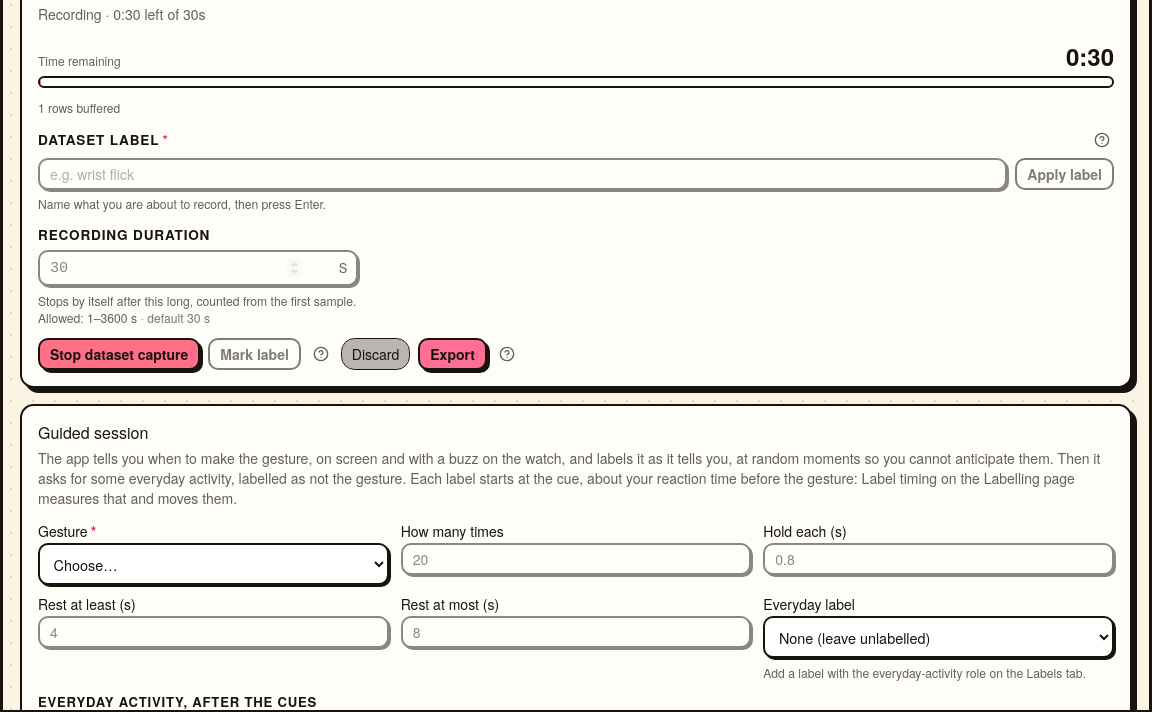
Scenario: Live telemetry › reports a failed dataset export via toast and re-enables the control
(page scrolled)
Click the button "Export": click(453, 354) [418,338,487,370]
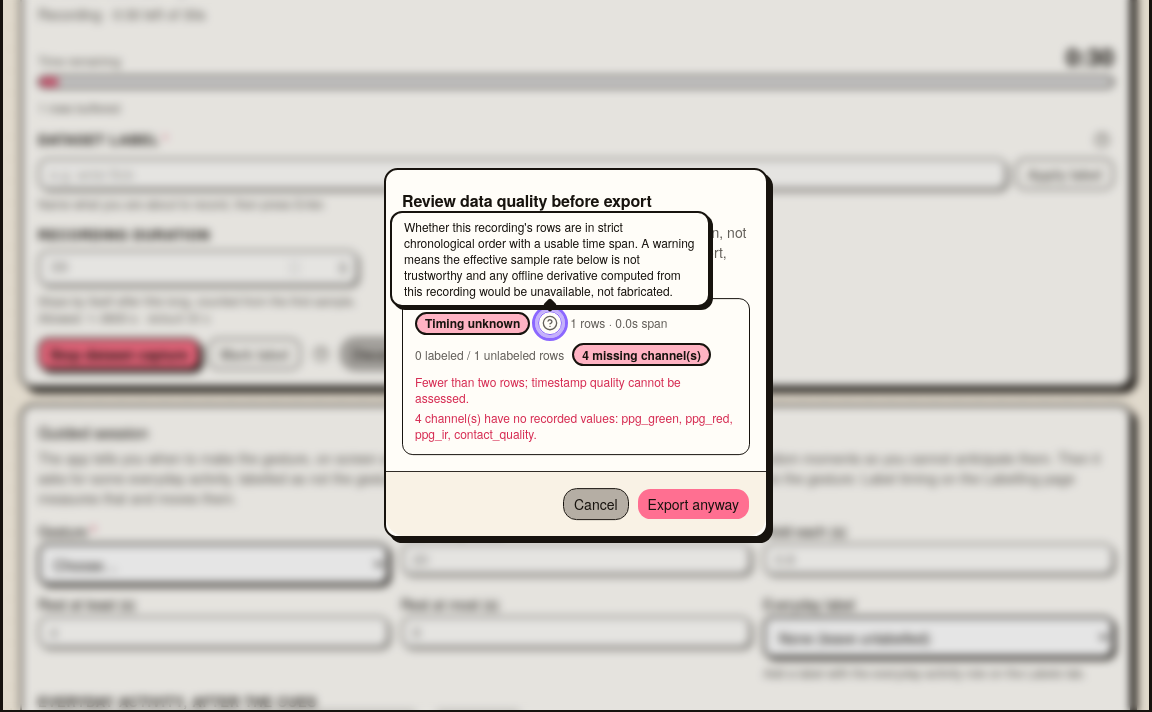
Click the button "Export anyway": click(693, 504) [637,488,750,520]
(page scrolled)
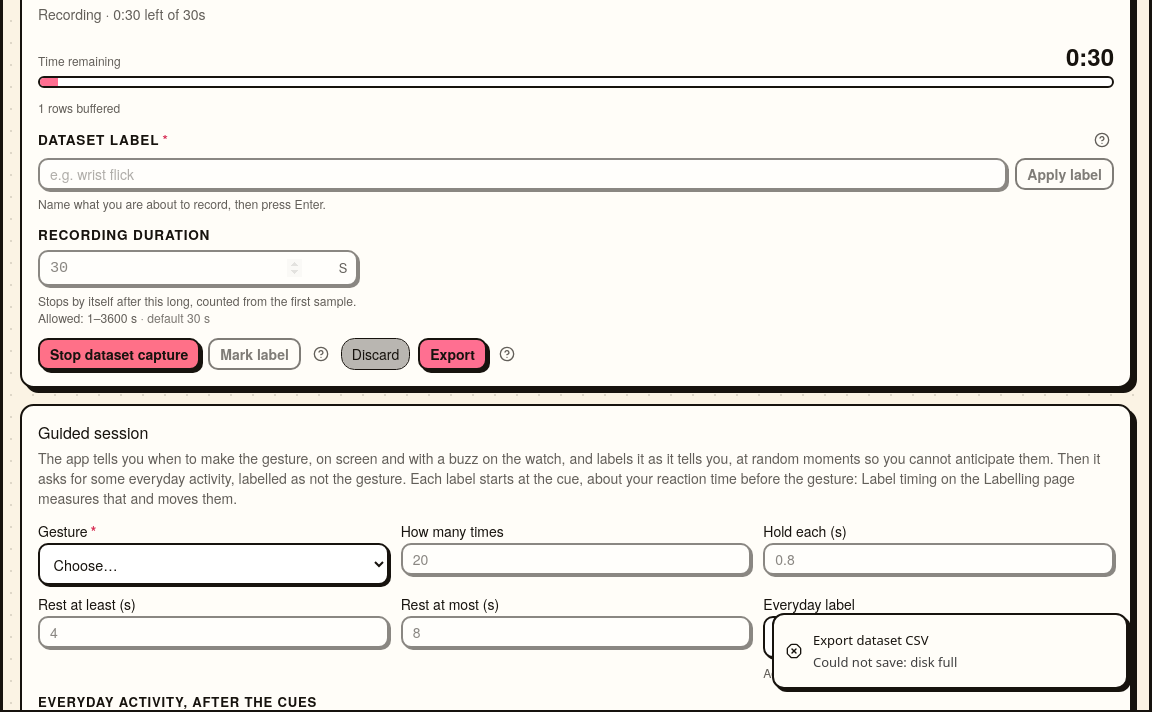
Expected: the button "Export" is enabled, [418,338,487,370]
Result: the text "Could not save: disk full" is shown at [813,653,957,671]
